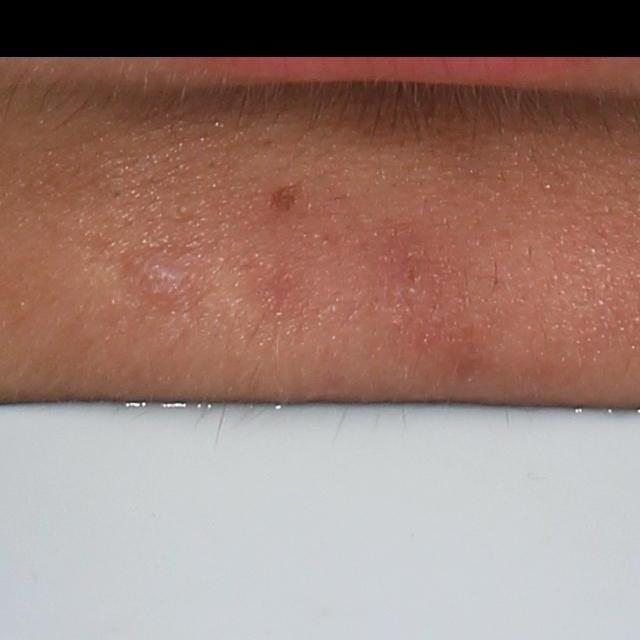nevus: (265, 182, 299, 214)
papule: (126, 252, 185, 309)
